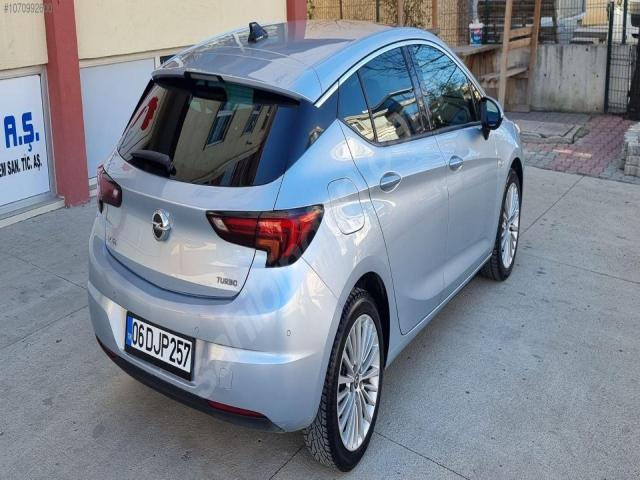plaka: (126, 315, 193, 373)
